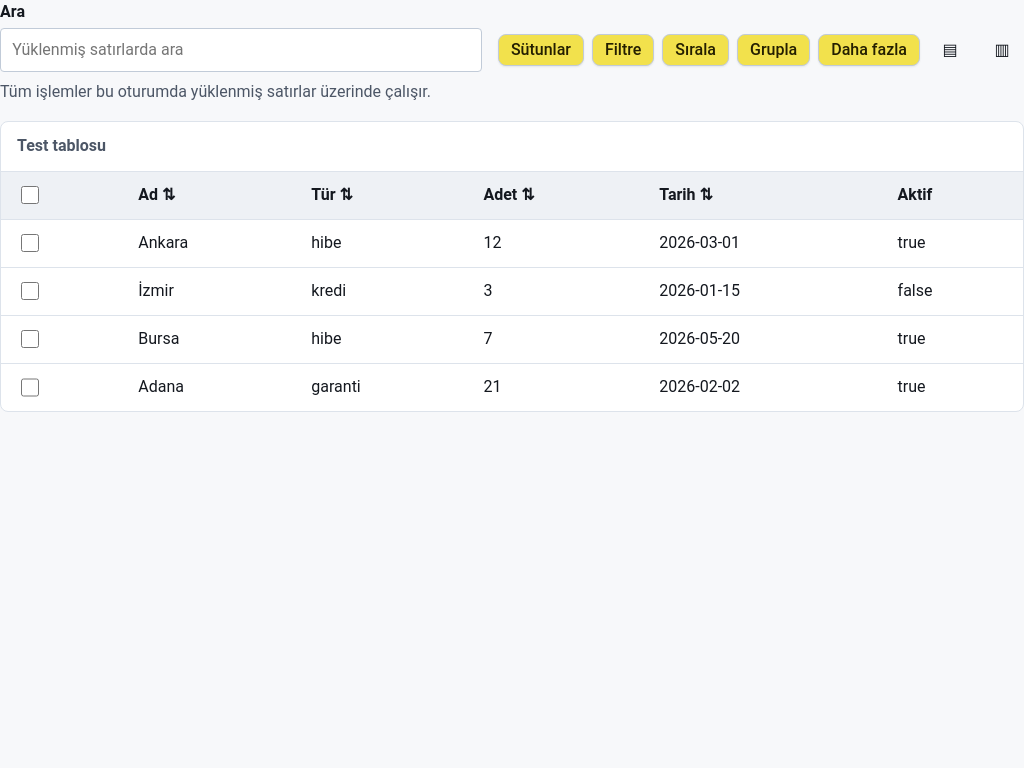
Test: sorting › supports multi-column sort
Click the button "Sırala".
click(696, 50)  # box [662,34,729,66]
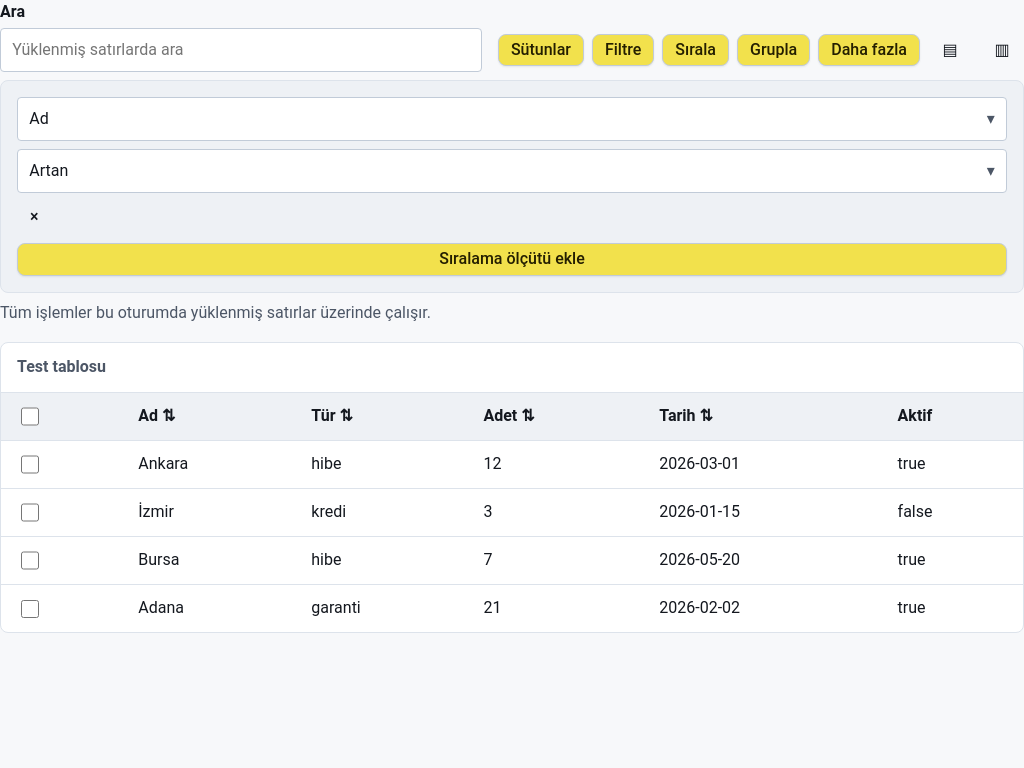
Click the button "Sıralama ölçütü ekle".
click(512, 260)  # box [17,243,1007,276]
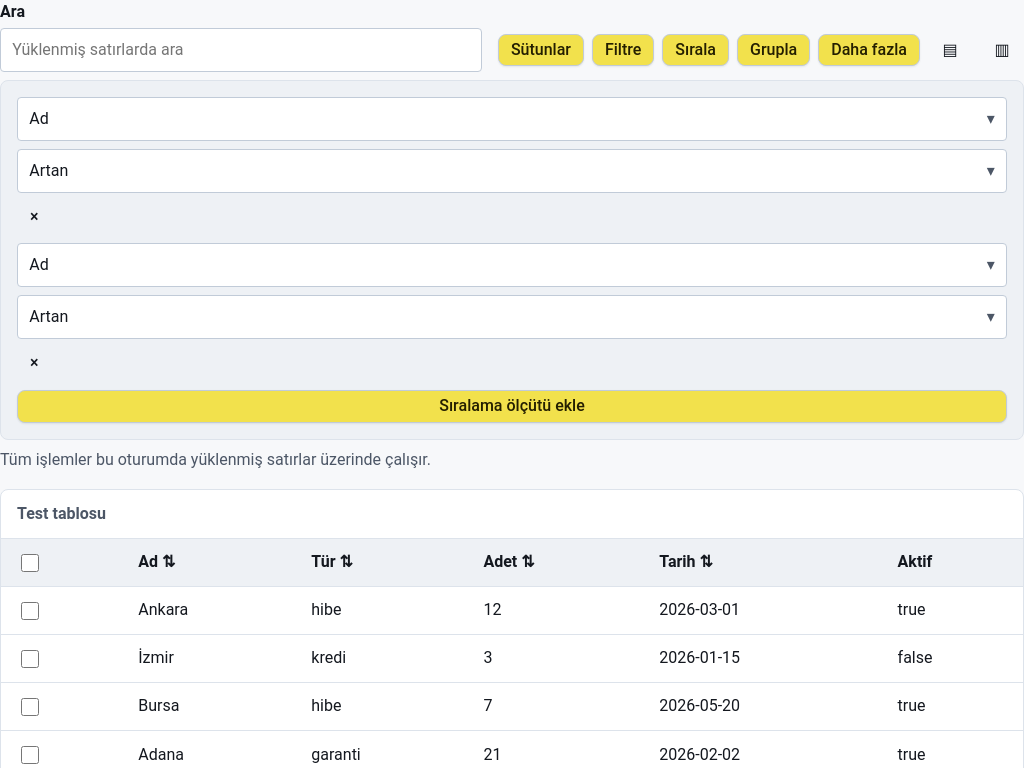
Result: the number of dropdowns named "Sıralama sütunu" is 2 at [17,97,1007,141]; [17,243,1007,287]
